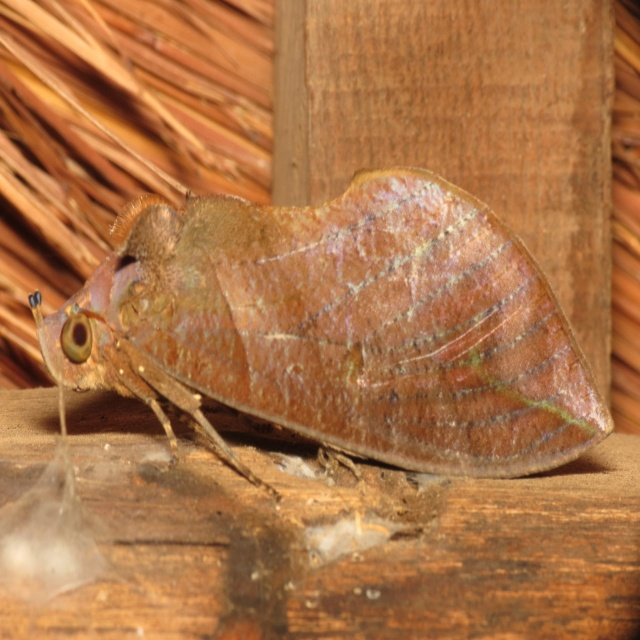Moths and butterflies: (27, 162, 614, 504)
